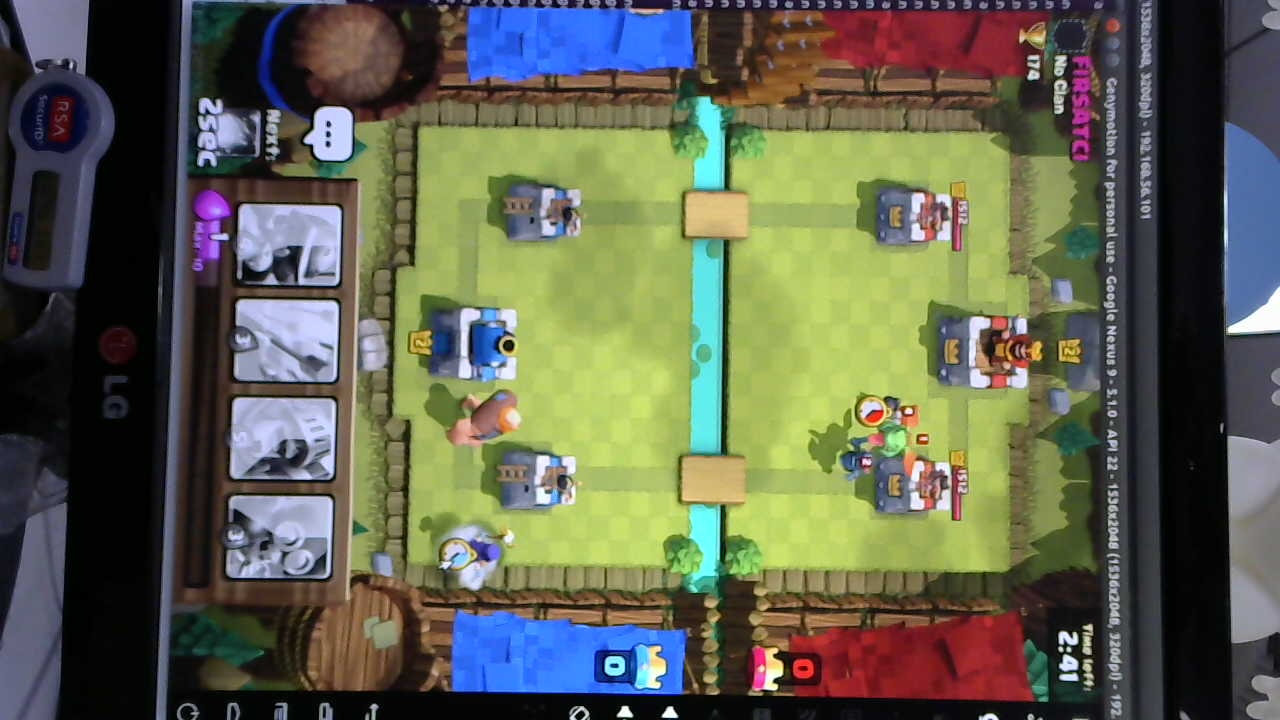bombE: (852, 393, 924, 432)
witch: (434, 534, 520, 571)
